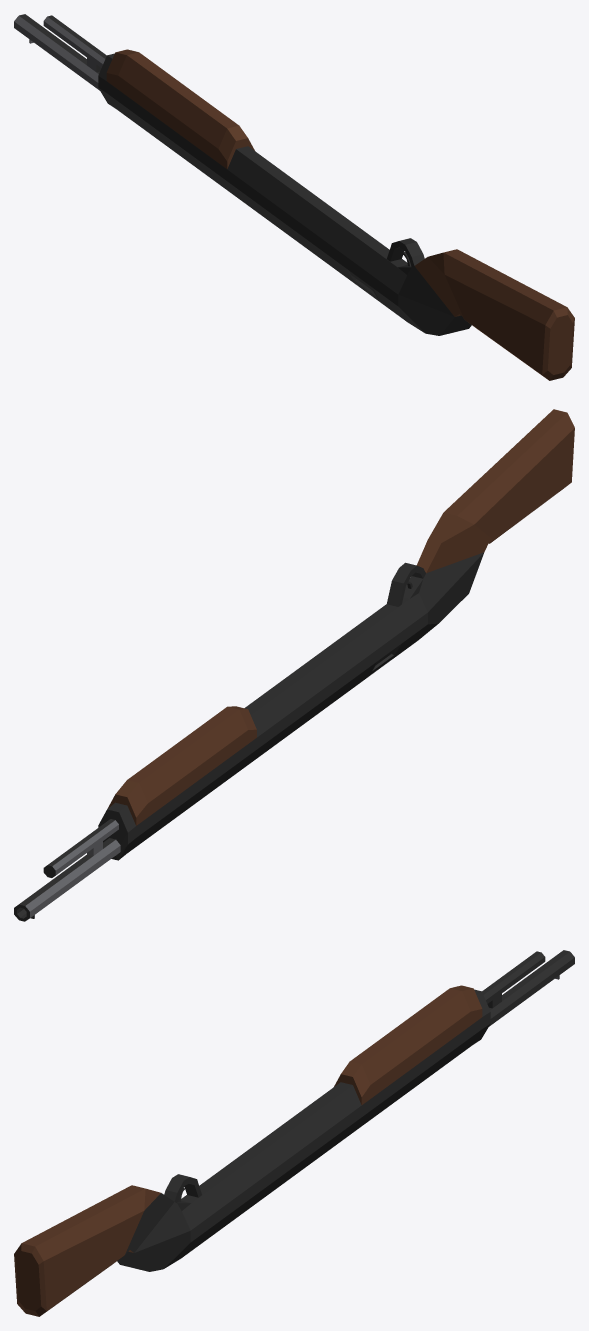
The model's file is drobash.fbx.
The picture shows the model from 3 angles, top to bottom: view 1: azimuth 30°, elevation 25°; view 2: azimuth 150°, elevation 25°; view 3: azimuth 330°, elevation 25°; orthographic projection.
Parts seen in each view (by area): view 1: Cube; view 2: Cube; view 3: Cube.
Boxes of the visible parts, x1,y1,x2,y2 form: Cube: [14, 14, 574, 380]; Cube: [14, 409, 574, 921]; Cube: [14, 950, 574, 1316].
Bounding box in the file's own units: 9.47 × 36.87 × 299.
